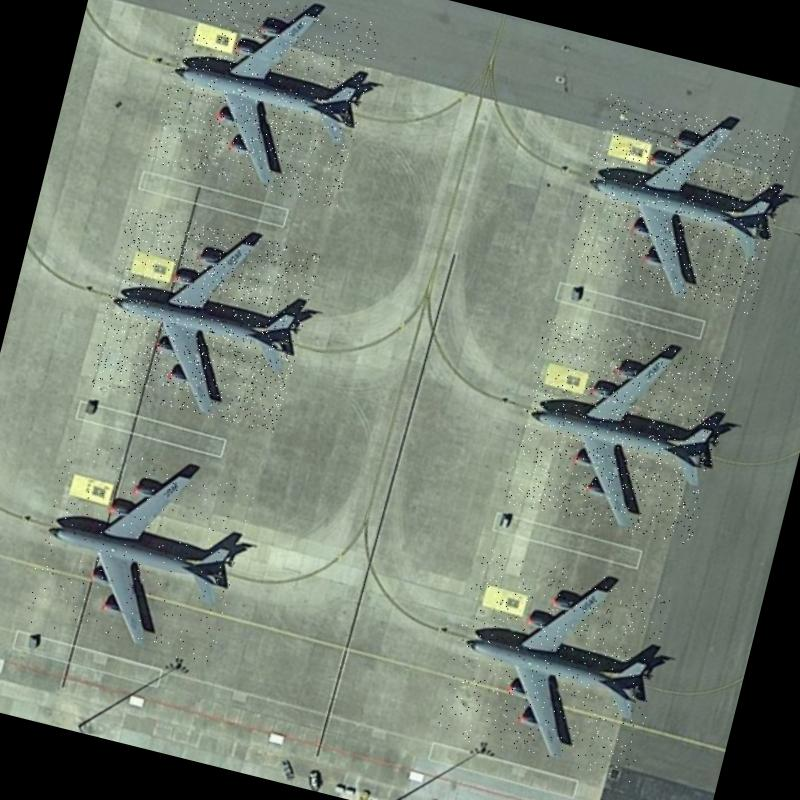A14: (434, 546, 676, 782), (499, 314, 736, 548), (21, 434, 256, 668), (85, 205, 321, 434), (563, 91, 795, 314), (146, 0, 382, 208)
